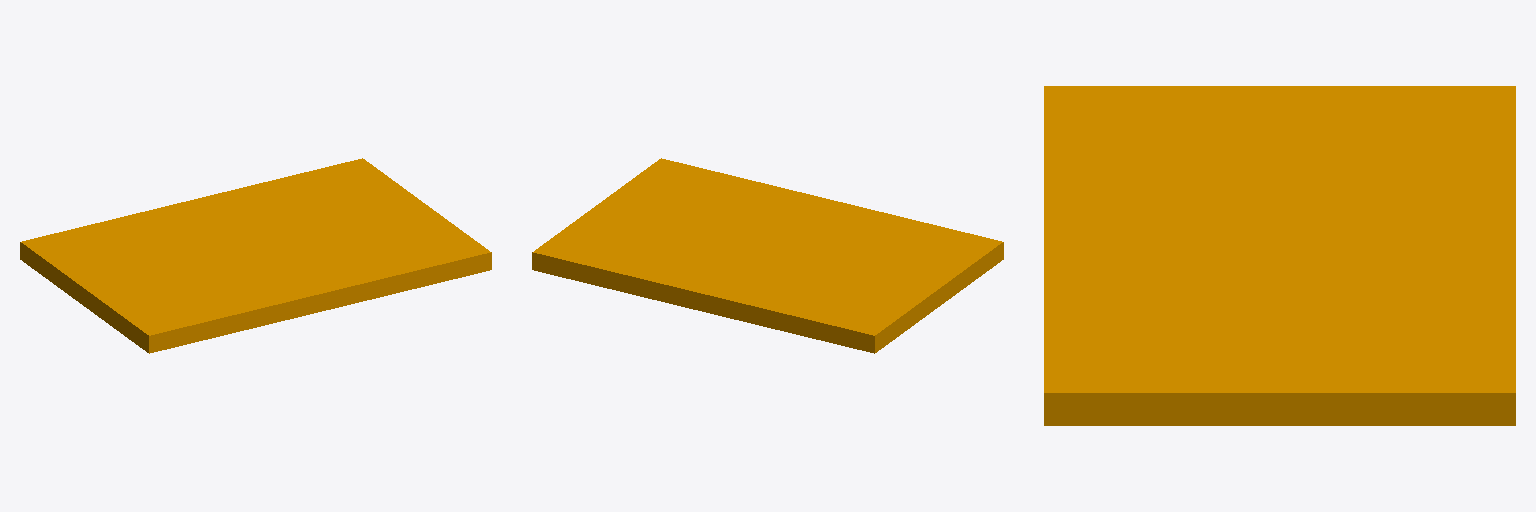
The robot description file, URDF, robot "table":
<robot name="table">
  <link name="table">

    <!-- rosrun gazebo_ros spawn_model -file $(rospack find ur5_single_arm_tufts)/urdf/objects/table.urdf -urdf -x 0.5 -y -0 -z 0.75 -model table -->
    
    <inertial>
      <origin xyz="0.23 0 0.755" rpy="0 0 0" />
      <mass value="1"/>
      <inertia
        ixx="0.07" ixy="0.0" ixz="0.0"
        iyy="0.40" iyz="0.0"
        izz="0.33"/>
    </inertial>

    <visual>
      <geometry>
        <box size="1.0 0.65 0.05"/>
      </geometry>
    </visual>

    <collision>
      <geometry>
        <box size="1.0 0.65 0.05"/>
      </geometry>
    </collision>

  </link>

  <gazebo reference="table">
    <material>Gazebo/Wood</material>
  </gazebo> 

  <gazebo>
    <static>true</static>
  </gazebo>

</robot>

--- What the picture shows (computed from the rendered views, not written in the file) ---
3 views of the same robot in one strip: view 1: azimuth 30°, elevation 25°; view 2: azimuth 150°, elevation 25°; view 3: azimuth 270°, elevation 25° (orthographic).
Robot: table — 1 links, 0 joints (none); root link table; default pose: all joints at 0.
Visible links, largest first — view 1: table; view 2: table; view 3: table.
Link boxes in pixels (x1,y1,x2,y2): table: (20, 158, 491, 353); table: (532, 158, 1003, 353); table: (1044, 86, 1515, 425).
Bounding box of the posed robot: 1 × 0.65 × 0.05 m (x, y, z).
Geometry: primitives only (box / cylinder / sphere), no mesh files.
